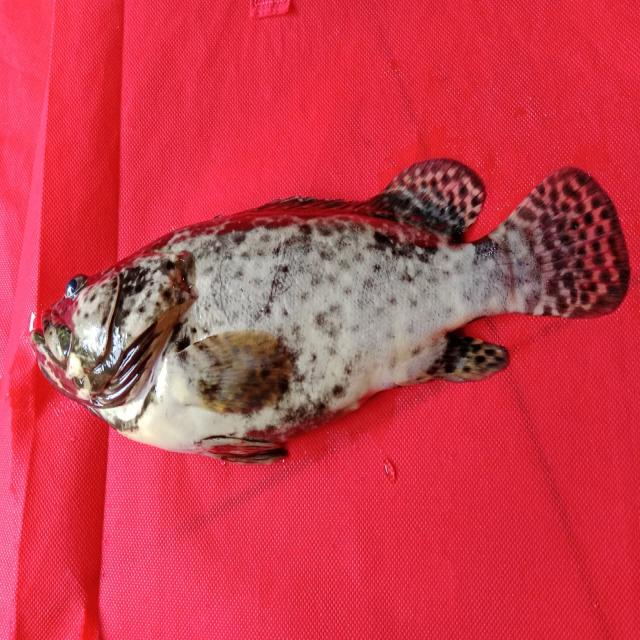ikan: (25, 146, 632, 478)
